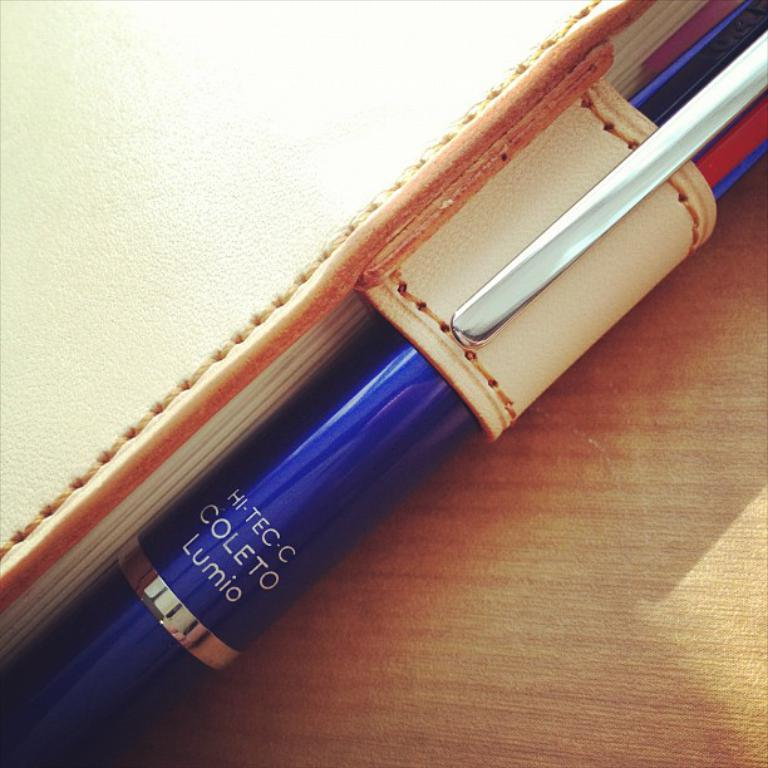pen: (0, 4, 767, 764)
